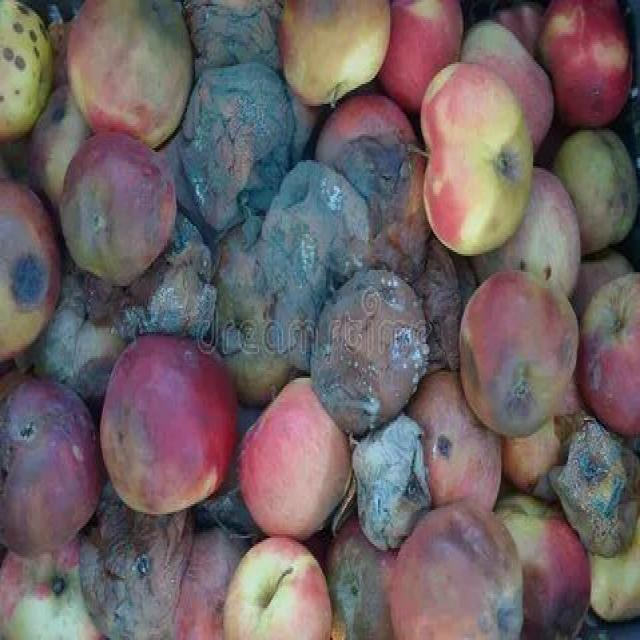Rotten: (102, 327, 234, 515), (54, 119, 174, 295), (458, 270, 578, 435), (296, 91, 426, 243), (56, 0, 192, 144), (393, 498, 521, 640), (1, 369, 95, 559), (310, 272, 427, 423), (552, 412, 640, 571), (546, 122, 640, 260), (584, 268, 640, 441)
